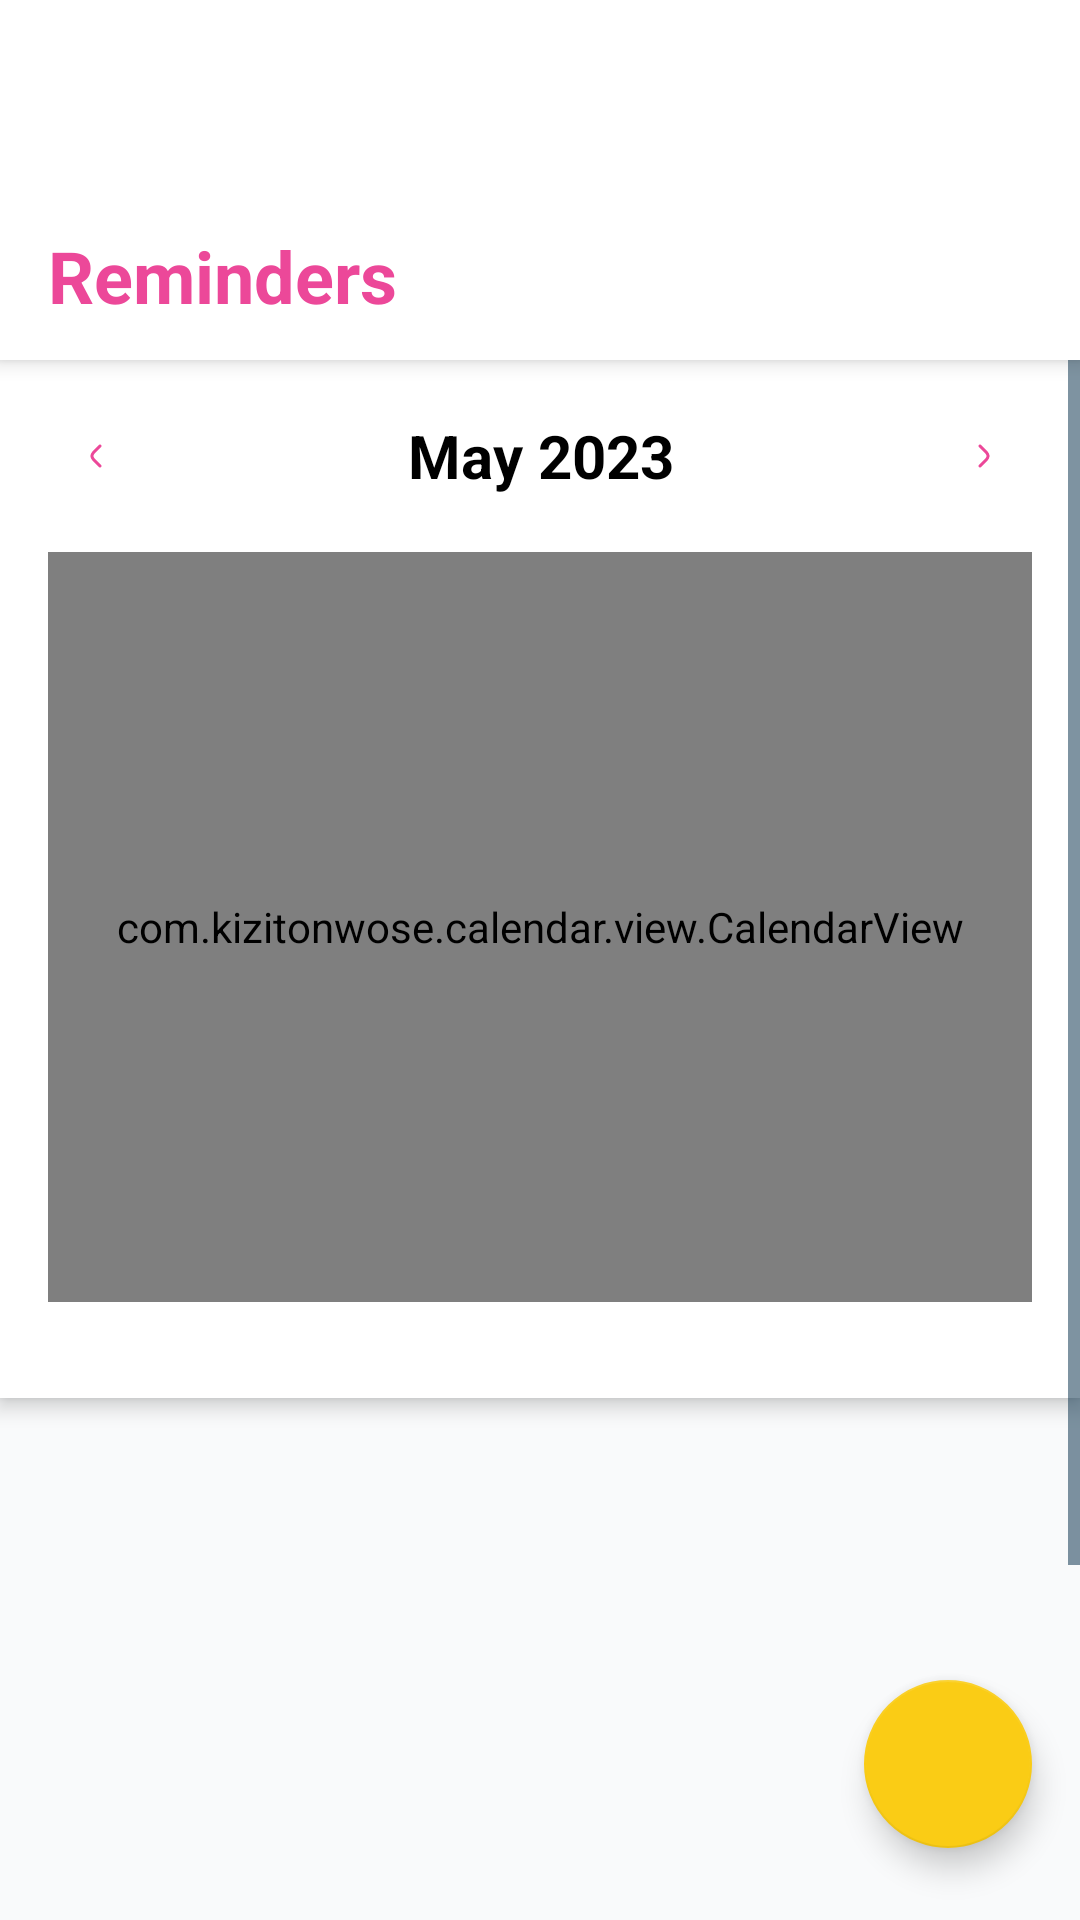

Locate icon controls on the screen. Image size 1080 × 1920, boxes as (x1, y1, x2, y2).
Next month: (978, 444, 990, 468)
Previous month: (90, 444, 102, 468)
